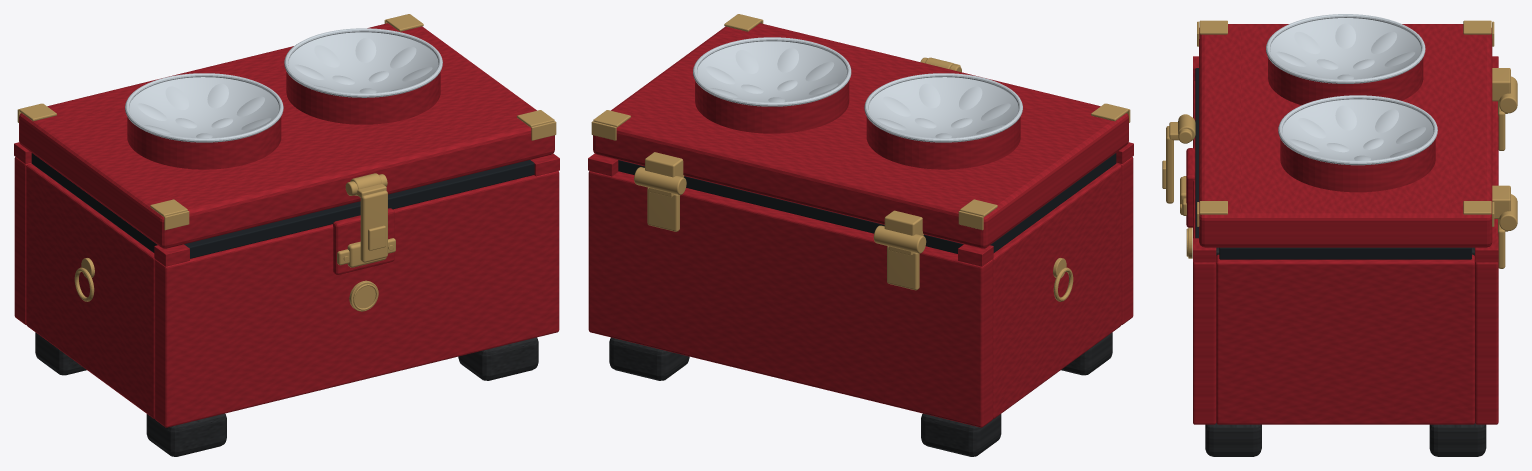
File: trinidad-and-tobago.glb
3 views of the same model, side by side, from view 1: azimuth 30°, elevation 25°; view 2: azimuth 150°, elevation 25°; view 3: azimuth 270°, elevation 25° (orthographic).
Parts seen in each view (by area): view 1: Enamel / front rear, Lid / polished slab, Enamel / side, Pan / bowl 1, Pan / bowl 0, Black seam / long, Pan / scarlet skirt 0, Pan / scarlet skirt 1, Graphite foot, Graphite foot.002, Enamel / front rear.001, Pan / rolled rim 1 (+7 smaller); view 2: Enamel / front rear.001, Lid / polished slab, Enamel / side, Pan / bowl 1, Pan / bowl 0, Pan / scarlet skirt 0, Pan / scarlet skirt 1, Black seam / long.001, Graphite foot.001, Graphite foot.003, Enamel / front rear, Pan / rolled rim 1 (+10 smaller); view 3: Enamel / side.001, Lid / polished slab, Pan / bowl 0, Pan / bowl 1, Enamel / front rear.001, Pan / scarlet skirt 1, Enamel / front rear, Black seam / side.001, Pan / scarlet skirt 0, Graphite foot.003, Graphite foot.002, Pan / rolled rim 1 (+19 smaller).
Part boxes in pixels (<box>): Enamel / front rear: <box>155,171,559,427</box>; Lid / polished slab: <box>19,23,554,248</box>; Enamel / side: <box>26,163,155,418</box>; Pan / bowl 1: <box>288,32,438,93</box>; Pan / bowl 0: <box>129,77,278,137</box>; Black seam / long: <box>184,160,534,258</box>; Pan / scarlet skirt 0: <box>127,116,281,169</box>; Pan / scarlet skirt 1: <box>286,71,440,124</box>; Graphite foot: <box>146,413,226,456</box>; Graphite foot.002: <box>458,337,538,380</box>; Enamel / front rear.001: <box>14,157,31,324</box>; Pan / rolled rim 1: <box>284,28,442,97</box>; Enamel / front rear.001: <box>588,171,992,427</box>; Lid / polished slab: <box>593,23,1128,248</box>; Enamel / side: <box>992,163,1121,418</box>; Pan / bowl 1: <box>697,41,846,102</box>; Pan / bowl 0: <box>869,77,1018,137</box>; Pan / scarlet skirt 0: <box>866,116,1020,169</box>; Pan / scarlet skirt 1: <box>695,80,849,133</box>; Black seam / long.001: <box>618,160,963,253</box>; Graphite foot.001: <box>921,413,1001,456</box>; Graphite foot.003: <box>609,337,689,380</box>; Enamel / front rear: <box>1116,157,1133,324</box>; Pan / rolled rim 1: <box>693,37,851,106</box>; Enamel / side.001: <box>1216,254,1474,424</box>; Lid / polished slab: <box>1199,24,1492,247</box>; Pan / bowl 0: <box>1270,18,1420,79</box>; Pan / bowl 1: <box>1282,99,1433,160</box>; Enamel / front rear.001: <box>1475,101,1498,424</box>; Pan / scarlet skirt 1: <box>1280,139,1435,192</box>; Enamel / front rear: <box>1193,80,1216,424</box>; Black seam / side.001: <box>1219,247,1471,259</box>; Pan / scarlet skirt 0: <box>1268,57,1423,105</box>; Graphite foot.003: <box>1429,422,1486,456</box>; Graphite foot.002: <box>1205,423,1261,456</box>; Pan / rolled rim 1: <box>1278,95,1437,165</box>.
Bounding box in the file's own units: 3.79 × 2.52 × 2.88.
Materials: 5 (2 with a texture image).
